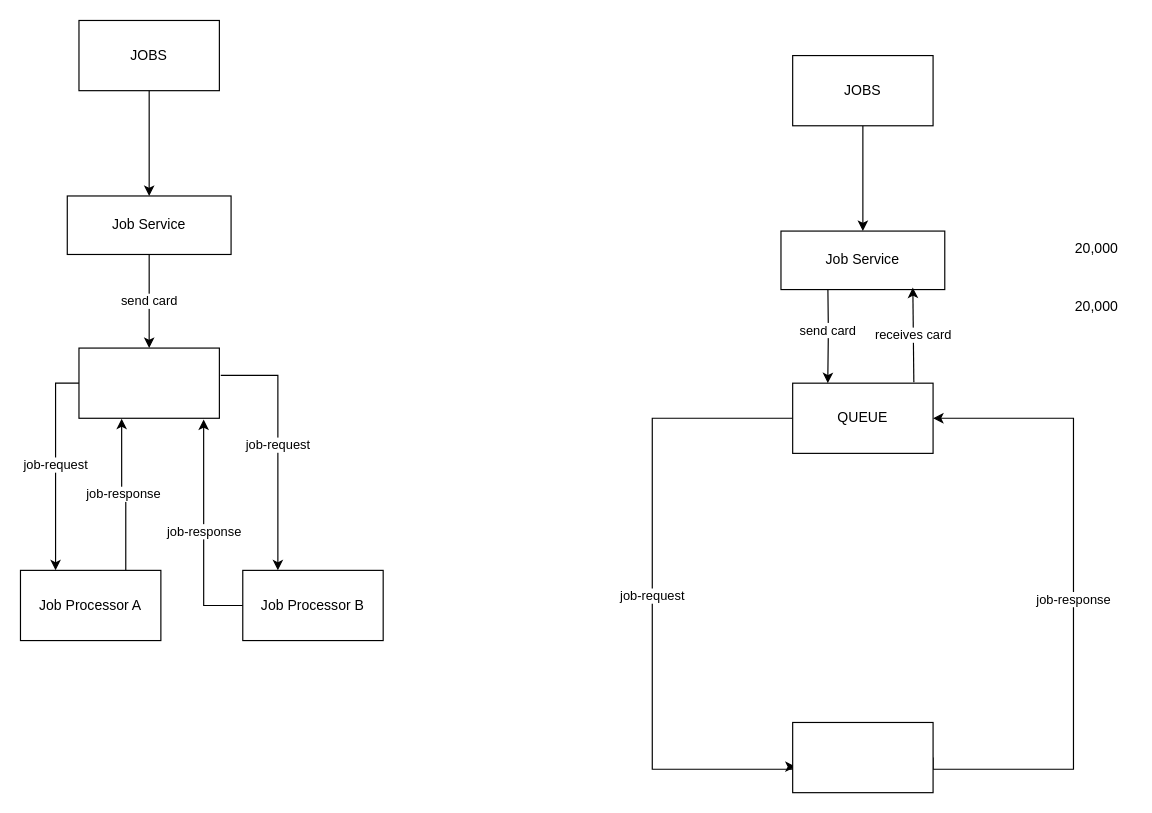
The diagram is 1152 pixels wide and 813 high, and some of its shapes have lost their labels. The shapes that lost their labels are listed below. From the top down, each one's centre as x and y in pixels, then its label:
At (x=148, y=382): "KAFKA".
At (x=862, y=757): "Job Processor".
